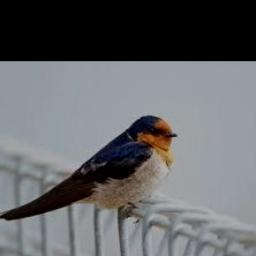Swallow: (0, 115, 178, 226)
